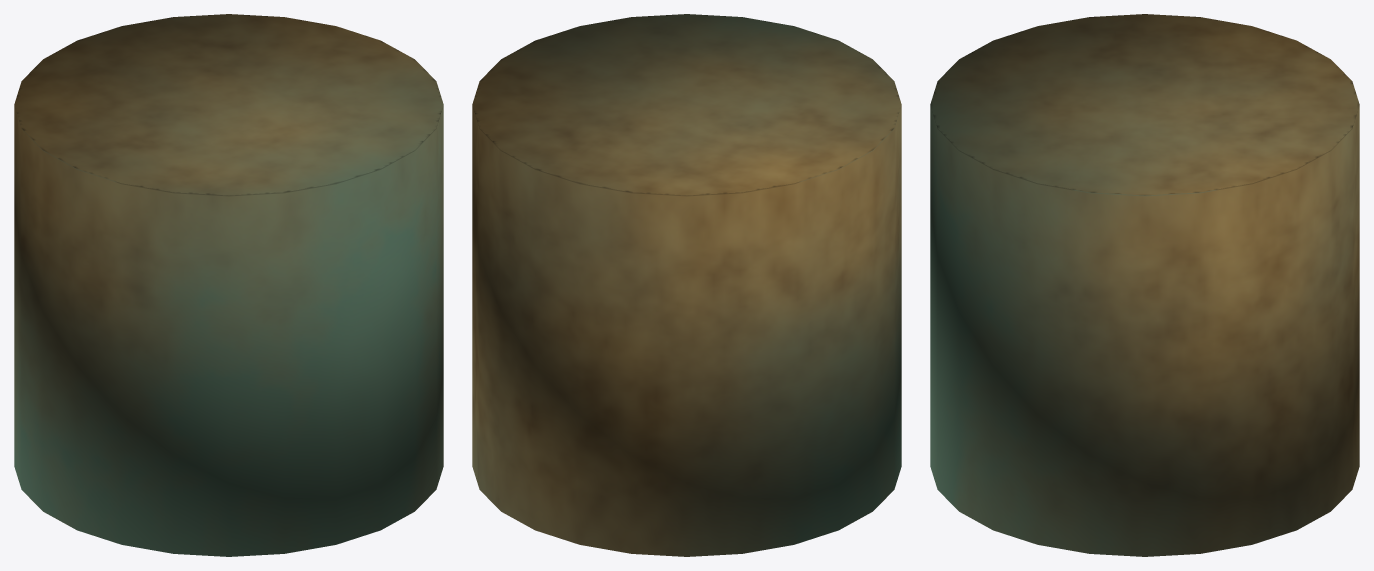
File: Offering vessel__n12.glb
3 views of the same model, side by side, from view 1: azimuth 30°, elevation 25°; view 2: azimuth 150°, elevation 25°; view 3: azimuth 270°, elevation 25° (orthographic).
Visible parts, largest first — view 1: Offering vessel; view 2: Offering vessel; view 3: Offering vessel.
Boxes of the visible parts, x1,y1,x2,y2 form: Offering vessel: [14, 14, 443, 556]; Offering vessel: [472, 14, 901, 556]; Offering vessel: [930, 14, 1359, 556].
Bounding box in the file's own units: 0.14 × 0.13 × 0.14.
Materials: 1 (1 with a texture image).
